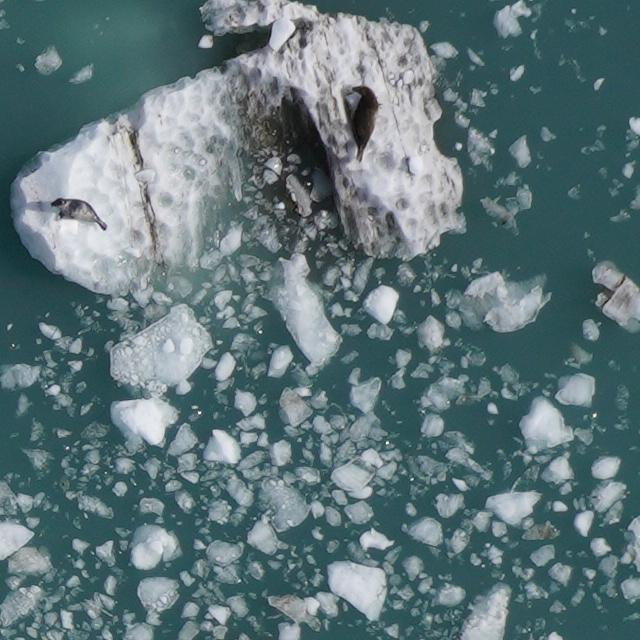seal: (350, 84, 379, 163), (51, 198, 107, 231)
